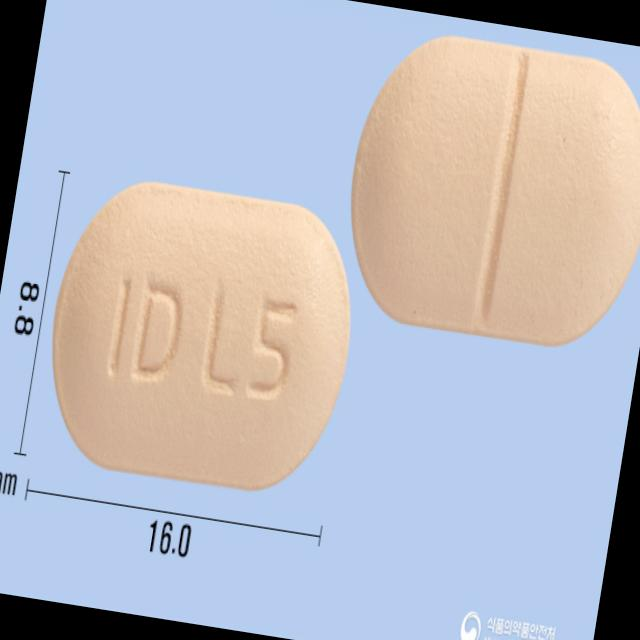Levofexin: (31, 168, 372, 502)
